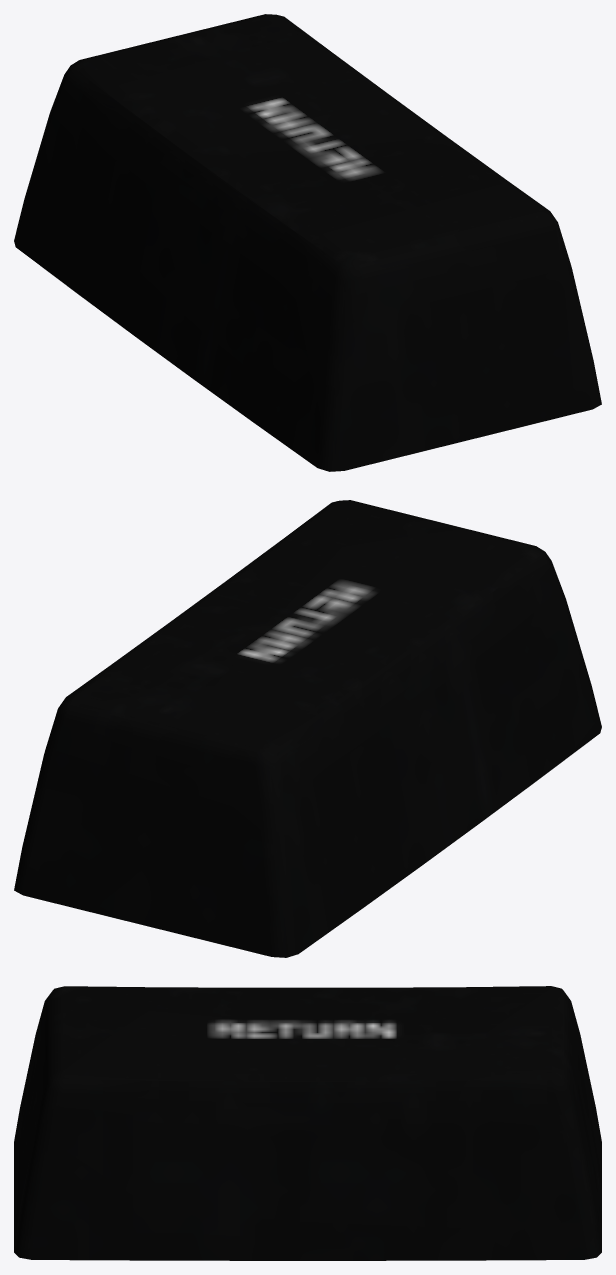
The model's file is return.glb.
3 views of the same model, one above another, from view 1: azimuth 30°, elevation 25°; view 2: azimuth 150°, elevation 25°; view 3: azimuth 270°, elevation 25° (orthographic). The views are drawn at different scales.
Visible parts, largest first — view 1: Return; view 2: Return; view 3: Return.
Boxes of the visible parts, x1,y1,x2,y2 form: Return: [14, 14, 601, 471]; Return: [14, 500, 601, 957]; Return: [14, 986, 601, 1260].
Bounding box in the file's own units: 0.0231 × 0.0145 × 0.0449.
Materials: 1 (1 with a texture image).
